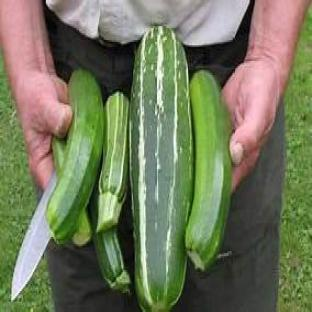Zucchini: (130, 27, 193, 310), (47, 70, 103, 244), (186, 72, 231, 270), (97, 93, 128, 231), (89, 189, 130, 292), (72, 210, 92, 245)
